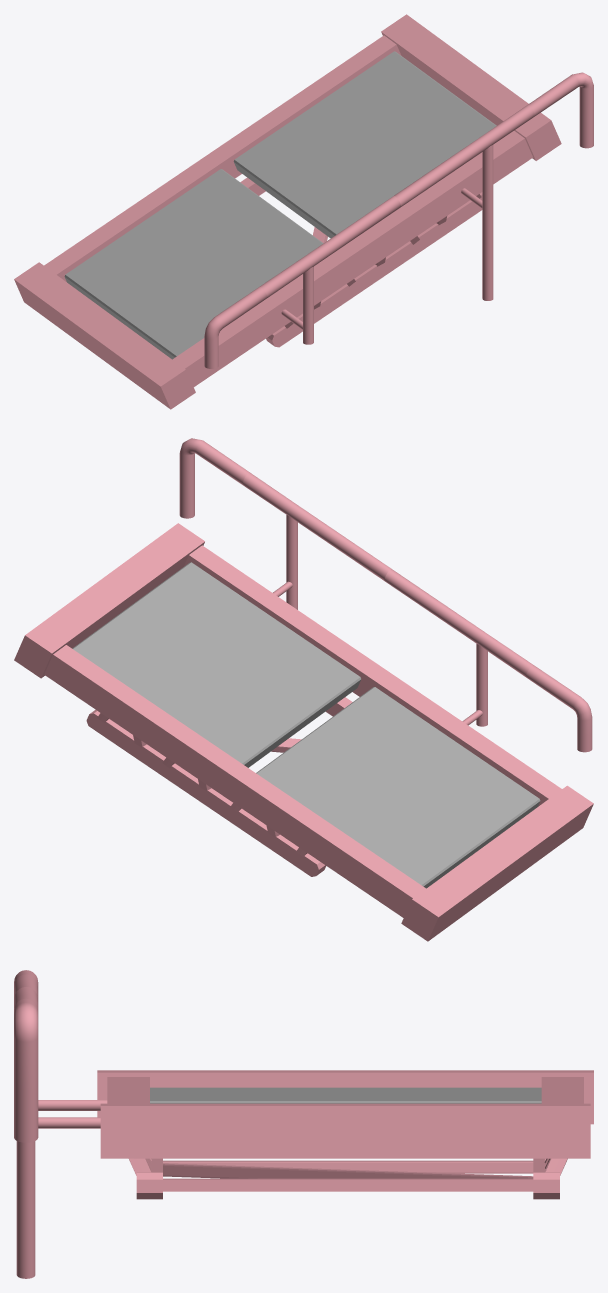
The model's file is SM_Rampe.fbx.
The picture shows the model from 3 angles, top to bottom: view 1: azimuth 30°, elevation 25°; view 2: azimuth 150°, elevation 25°; view 3: azimuth 270°, elevation 25°; orthographic projection. The views are drawn at different scales.
Parts seen in each view (by area): view 1: Rampe; view 2: Rampe; view 3: Rampe.
Part boxes in pixels (box(x1,y1,x2,y2)): Rampe: box(14, 14, 593, 409); Rampe: box(14, 438, 593, 941); Rampe: box(14, 970, 593, 1278).
Bounding box in the file's own units: 33.16 × 19.8 × 23.93.
